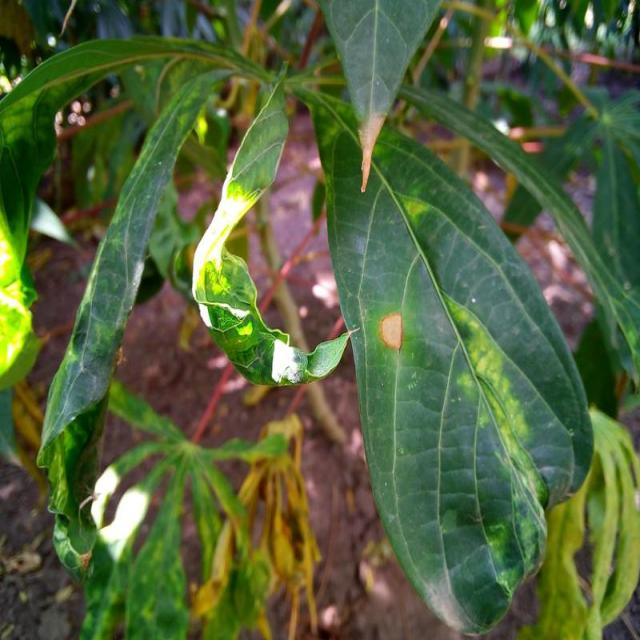cassava leaf: (317, 111, 595, 635), (35, 62, 238, 580), (192, 64, 359, 388), (318, 0, 445, 192)
